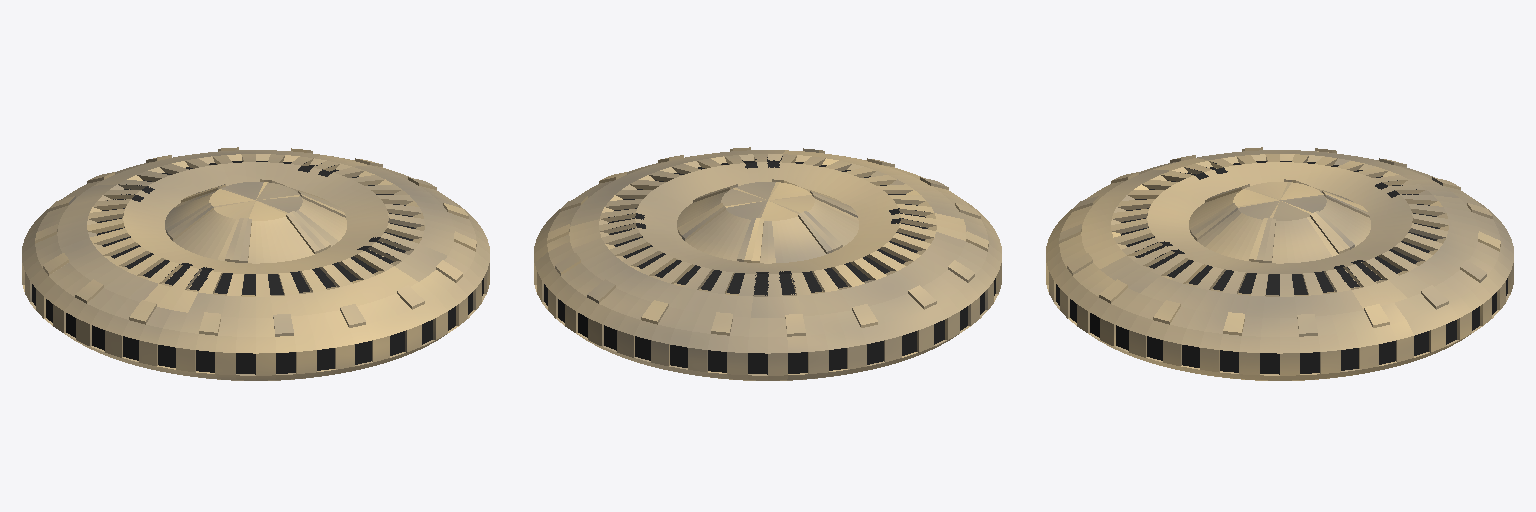
3 renders of one model, left to right at view 1: azimuth 30°, elevation 25°; view 2: azimuth 150°, elevation 25°; view 3: azimuth 270°, elevation 25°, orthographic.
Visible parts, largest first — view 1: Sphere; view 2: Sphere; view 3: Sphere.
Boxes of the visible parts, <box> form: Sphere: <box>22,147,489,380</box>; Sphere: <box>534,147,1001,380</box>; Sphere: <box>1046,147,1513,380</box>.
Size of the model in its own units: 0.5885 by 0.1578 by 0.5885.
Materials: 1 (1 with a texture image).